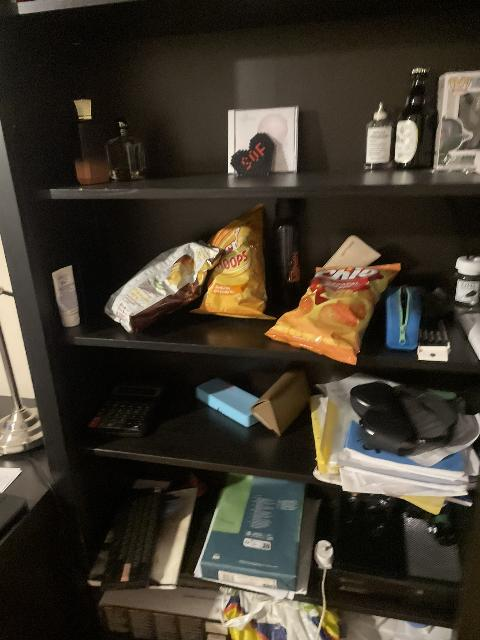Chio Cascaval 125g: (265, 257, 401, 365)
Chio Hula Hoops Cheese 70g: (191, 204, 278, 319)
Lays Beef Grilled Ribs 125g: (104, 242, 227, 333)
